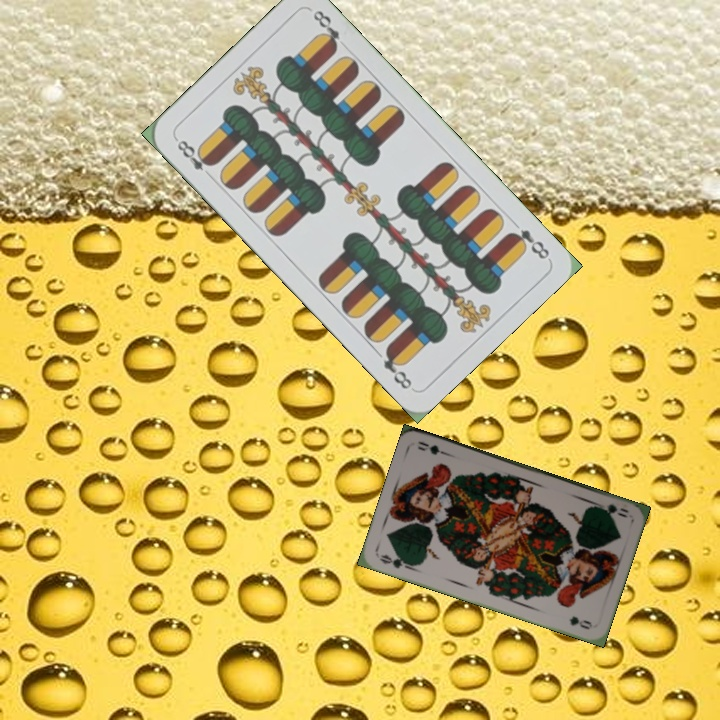E8: (171, 134, 217, 182), (504, 225, 552, 262)
GO: (375, 550, 416, 572), (591, 498, 631, 520)
